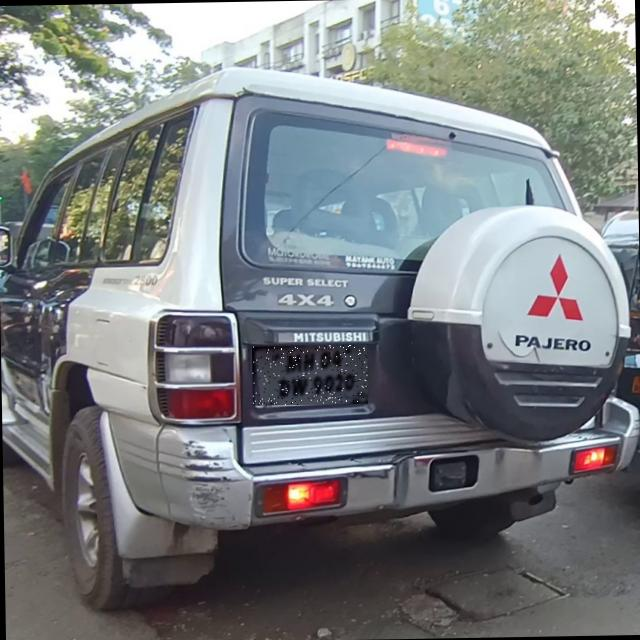Plate: (253, 345, 369, 406)
